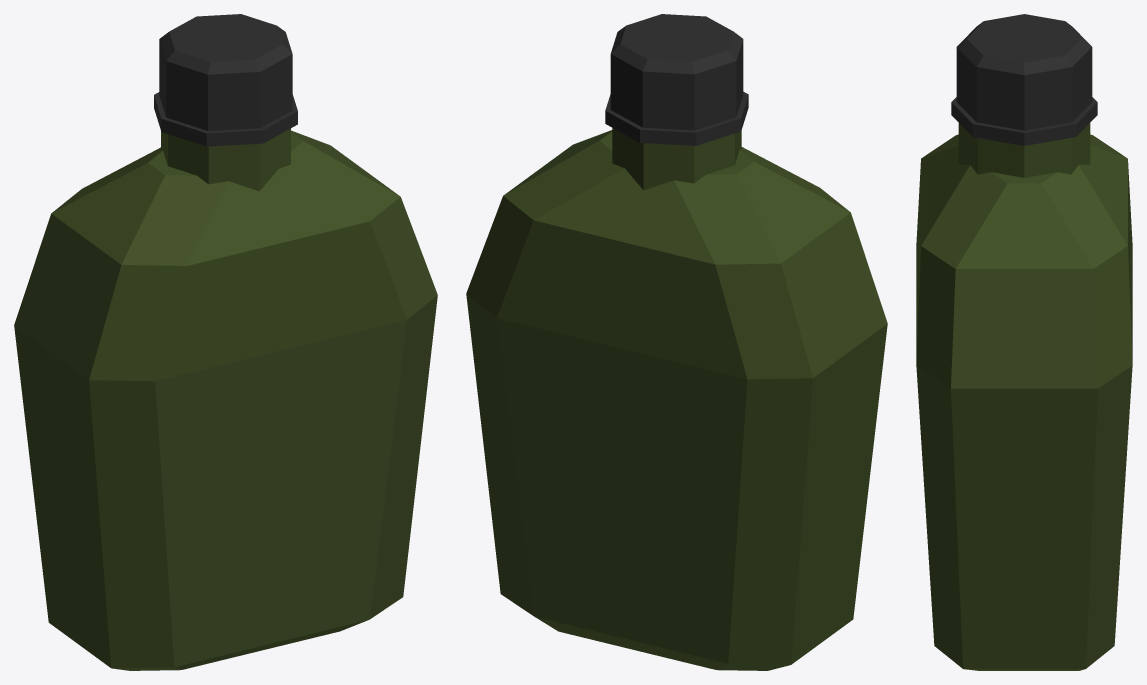
The model's file is Flask_vc.fbx.
The picture shows the model from 3 angles, left to right: view 1: azimuth 30°, elevation 25°; view 2: azimuth 150°, elevation 25°; view 3: azimuth 270°, elevation 25°; orthographic projection.
Visible parts, largest first — view 1: Flask_vc; view 2: Flask_vc; view 3: Flask_vc.
Part boxes in pixels (bbox=[...]): Flask_vc: bbox=[14, 14, 437, 670]; Flask_vc: bbox=[466, 14, 887, 670]; Flask_vc: bbox=[916, 14, 1132, 670].
Bounding box in the file's own units: 10.84 × 17.44 × 5.94.
